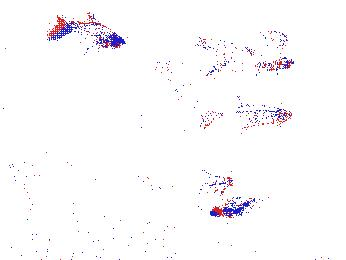X-ray fish: (149, 55, 198, 94)
red belly glassfish: (178, 175, 237, 199), (195, 202, 253, 222)
redtail glassfish: (196, 92, 293, 132), (47, 6, 124, 51), (190, 35, 270, 77), (207, 52, 296, 79)
